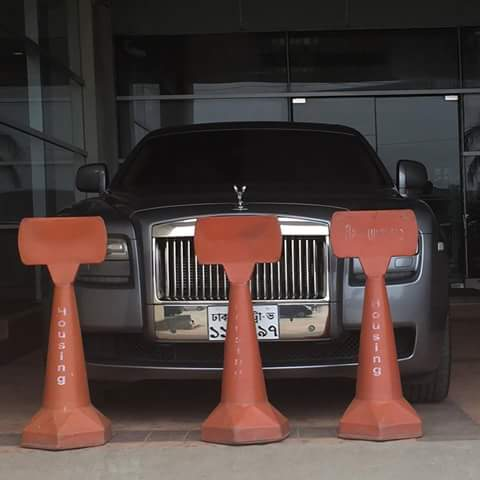registration_plate: (206, 304, 280, 341)
